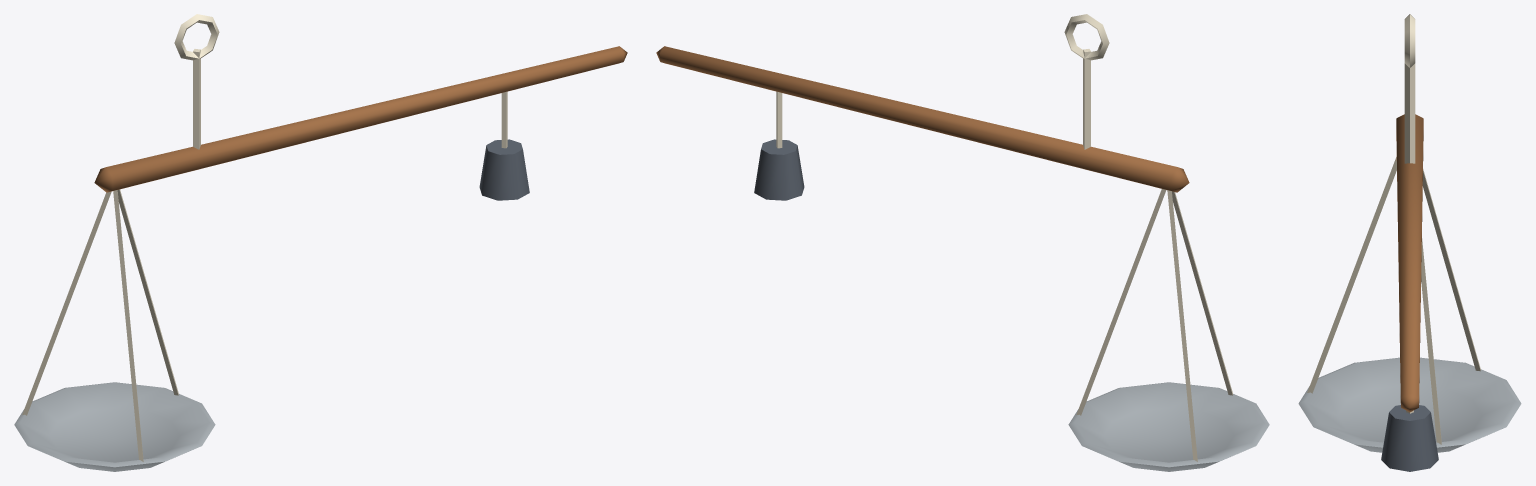
Rendered from hanging_scale.glb.
3 views of the same model, side by side, from view 1: azimuth 30°, elevation 25°; view 2: azimuth 150°, elevation 25°; view 3: azimuth 270°, elevation 25° (orthographic). The views are drawn at different scales.
Visible parts, largest first — view 1: hanging_scale; view 2: hanging_scale; view 3: hanging_scale.
Boxes of the visible parts, <box> form: hanging_scale: <box>14,14,627,471</box>; hanging_scale: <box>656,14,1269,471</box>; hanging_scale: <box>1298,14,1521,471</box>.
Bounding box in the file's own units: 0.585 × 0.386 × 0.17.
